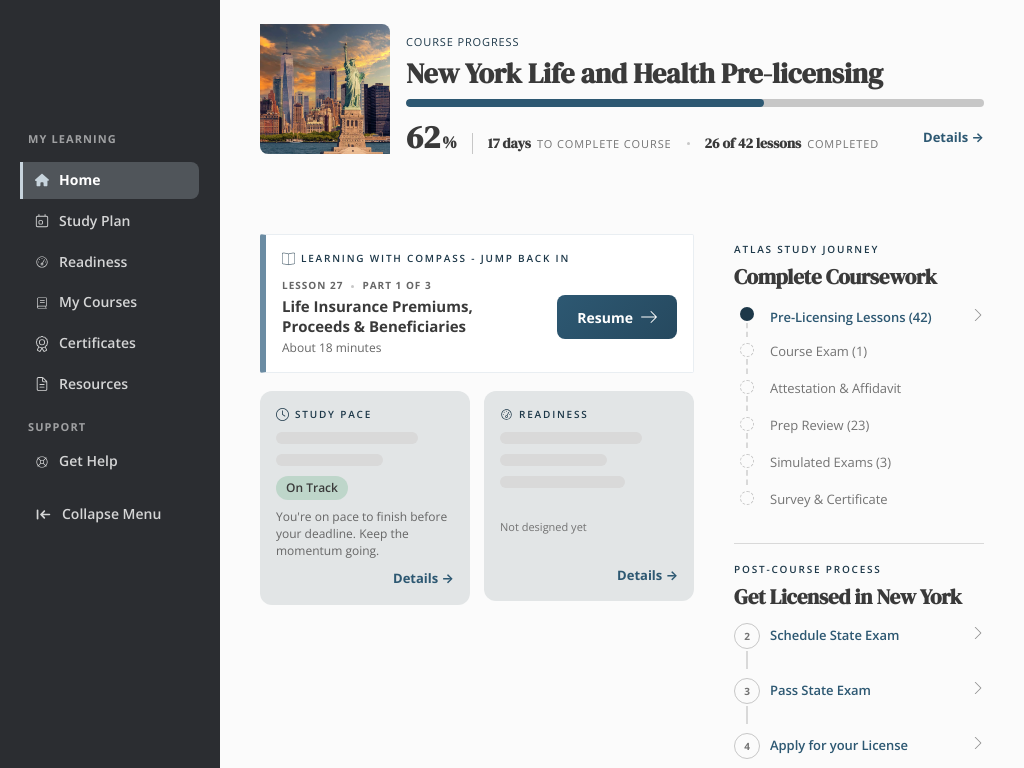
the Get Licensed section › links only where there is a confirmed destination
Step 1. Click the button "Schedule State Exam" → (877, 646), box [762,622,992,669]
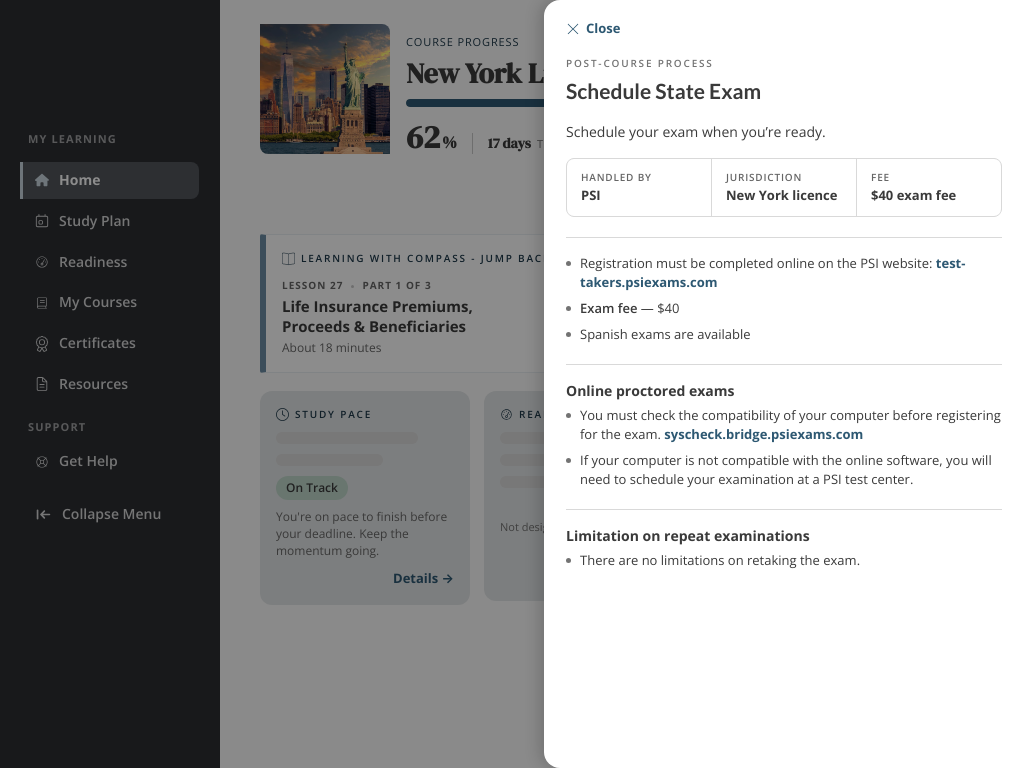
Now the link "test-takers.psiexams.com" is shown, box [580,254,965,291]
